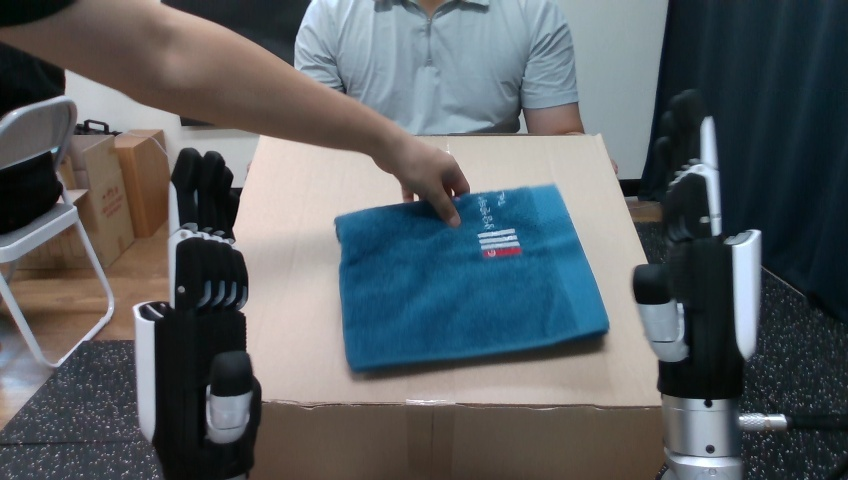left robot hand: (633, 117, 786, 479), (133, 148, 260, 478)
